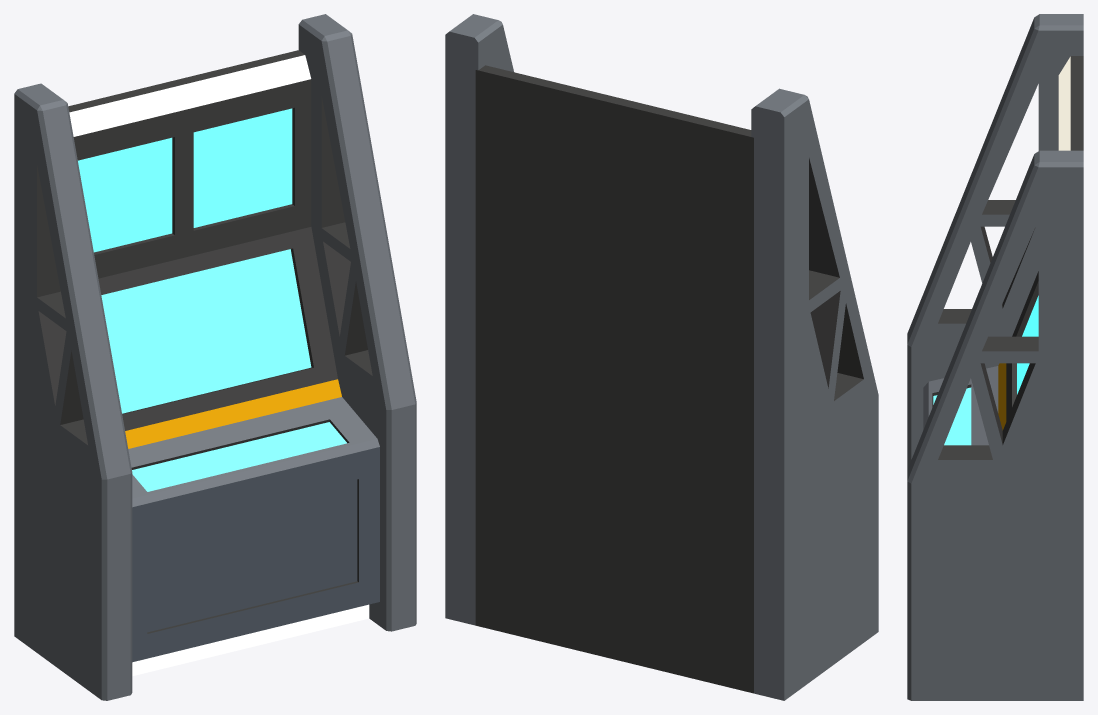
The model's file is wall_bank.glb.
The picture shows the model from 3 angles, left to right: view 1: azimuth 30°, elevation 25°; view 2: azimuth 150°, elevation 25°; view 3: azimuth 270°, elevation 25°; orthographic projection. The views are drawn at different scales.
Visible parts, largest first — view 1: wall_bank; view 2: wall_bank; view 3: wall_bank.
Part boxes in pixels (box(x1,y1,x2,y2)): wall_bank: box(14, 14, 416, 700); wall_bank: box(445, 14, 878, 700); wall_bank: box(907, 14, 1083, 700).
Size of the model in its own units: 1.34 by 2.22 by 0.66.
